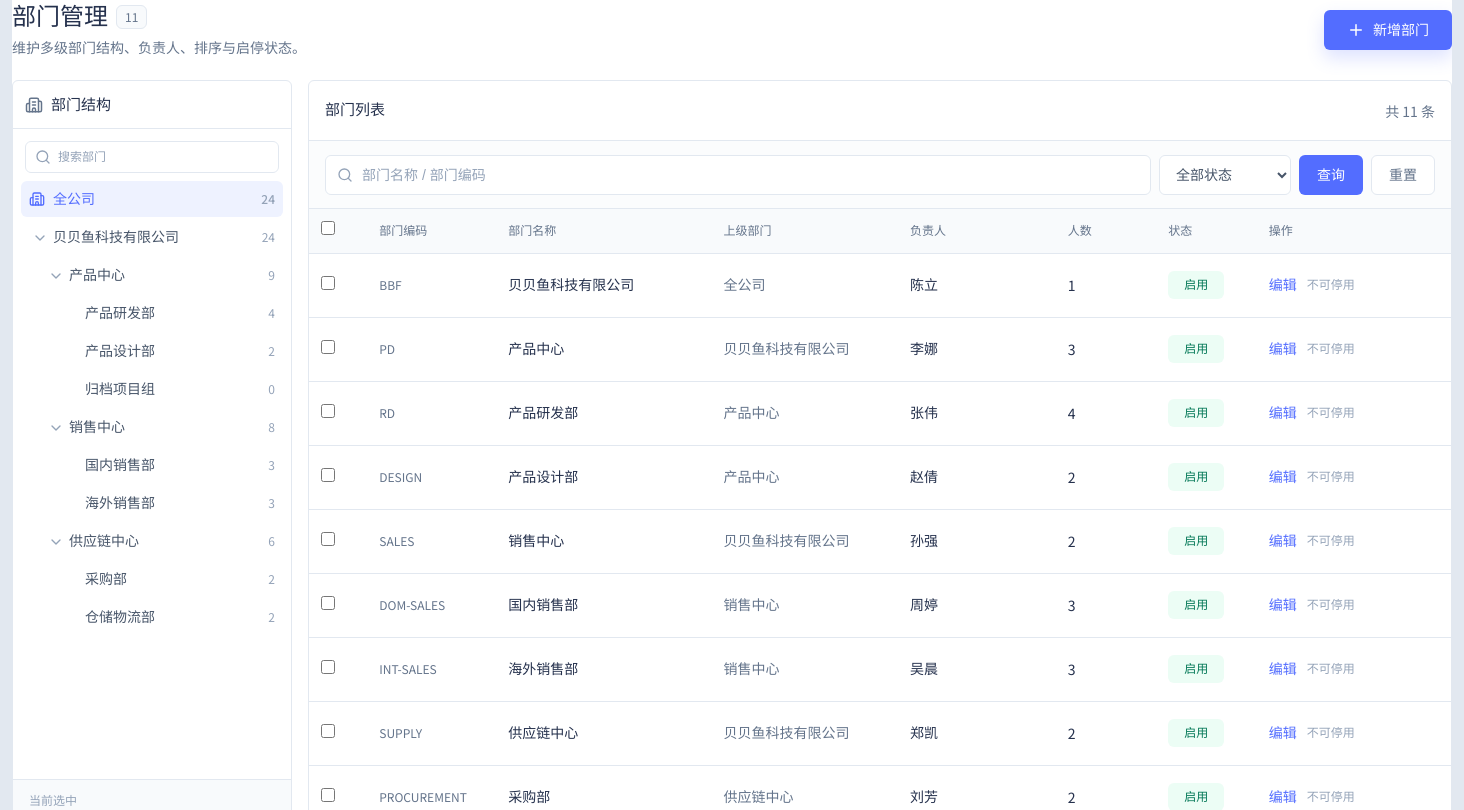
Test: DepartmentManagementView › matches the department tree title and selected summary from Figma
Expected: the text with test id "department-tree-title" reads "部门结构", [51,96,111,112]
Click the button with test id "department-node-2": x=97, y=275 [21,257,283,293]
(page scrolled)
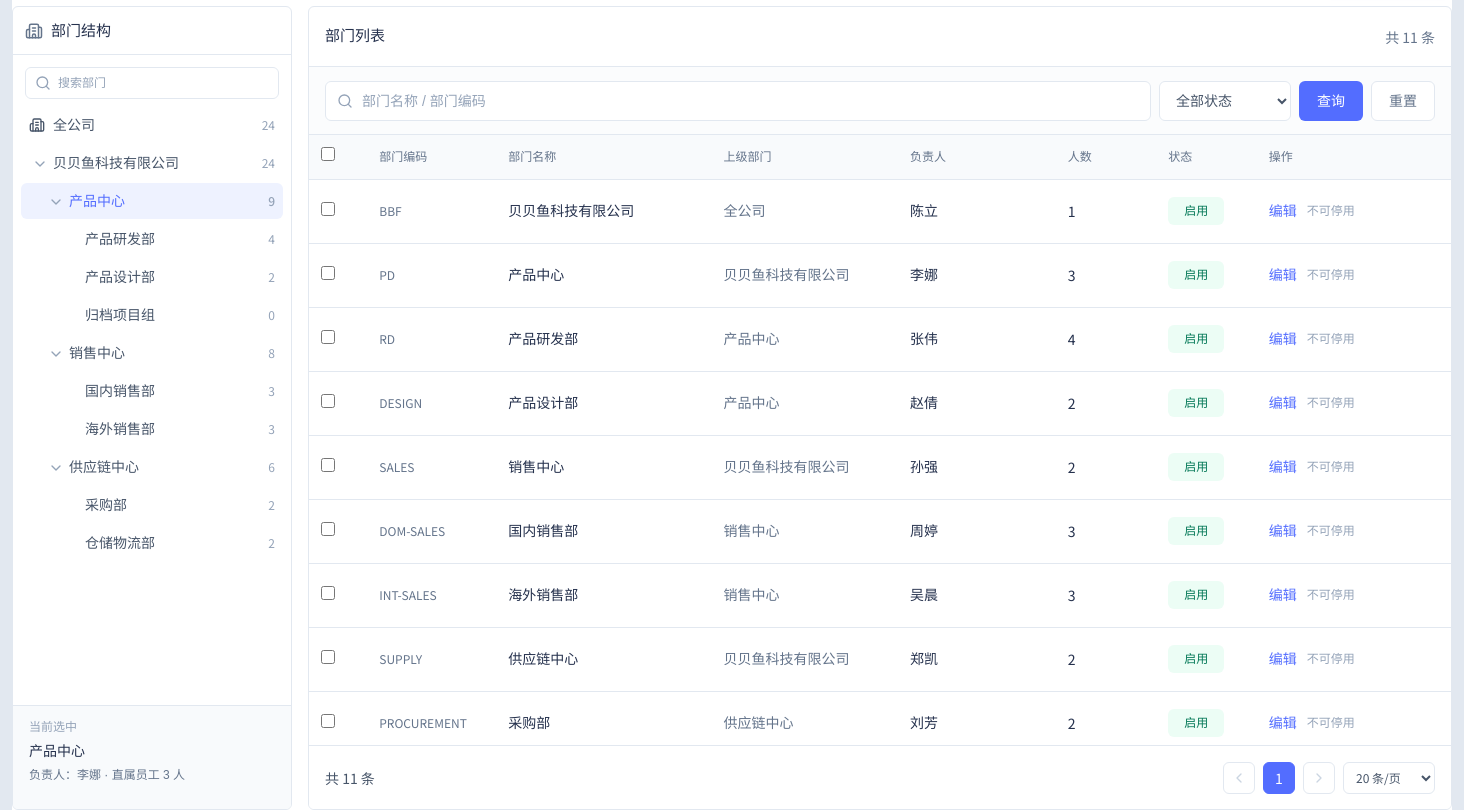
Now the text with test id "department-tree-summary-title" reads "产品中心", box [29,743,85,759]
Now the footer with test id "department-tree-summary" shows "负责人：李娜", box [29,768,185,782]
Now the footer with test id "department-tree-summary" shows "直属员工", box [29,768,185,782]
